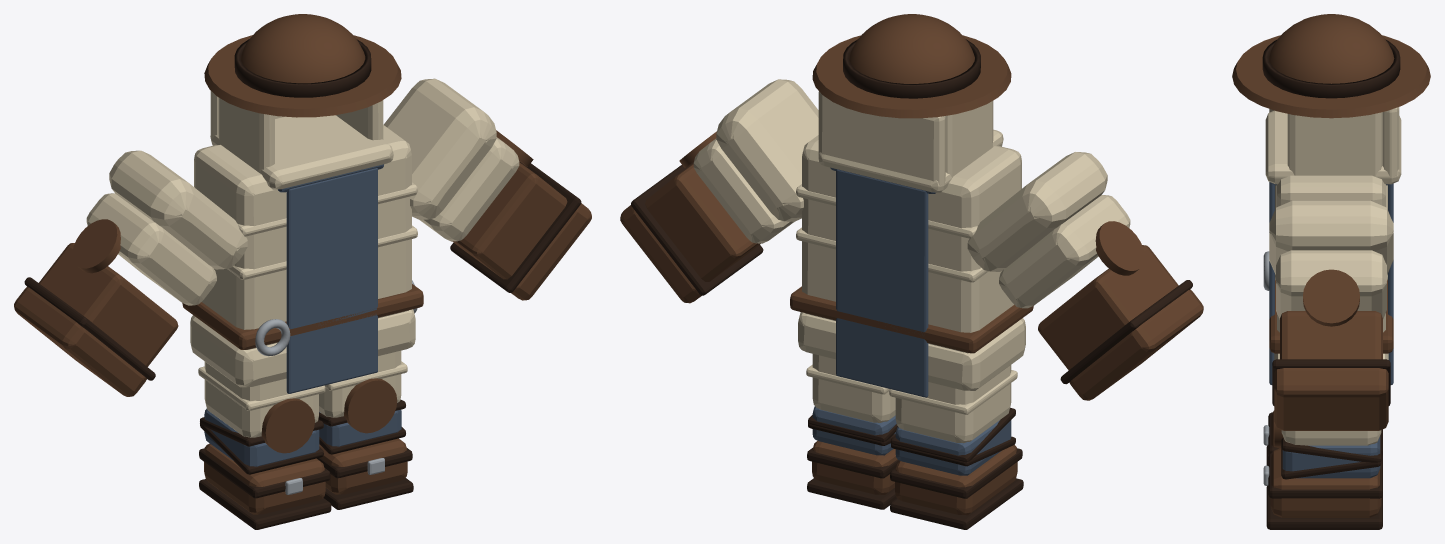
File: WardenArmorSet.glb
The picture shows the model from 3 angles, left to right: view 1: azimuth 30°, elevation 25°; view 2: azimuth 150°, elevation 25°; view 3: azimuth 270°, elevation 25°; orthographic projection.
Parts seen in each view (by area): view 1: Right (×3), WardenChestplate, Left (×3), WardenHelmet; view 2: Right (×3), WardenChestplate, Left (×3), WardenHelmet; view 3: Left (×3), WardenHelmet, WardenChestplate, Right.
Boxes of the visible parts, x1,y1,x2,y2 form: Right (×3): (14,150,331,529); WardenChestplate: (182,125,423,393); Left (×3): (317,78,591,509); WardenHelmet: (204,14,401,189); Right (×3): (889,152,1203,529); WardenChestplate: (790,135,1033,397); Left (×3): (620,79,899,509); WardenHelmet: (812,14,1011,192); Left (×3): (1263,200,1393,529); WardenHelmet: (1232,14,1430,184); WardenChestplate: (1263,175,1393,384); Right: (1263,410,1382,465).
Bounding box in the file's own units: 6.43 × 5.44 × 2.08.
